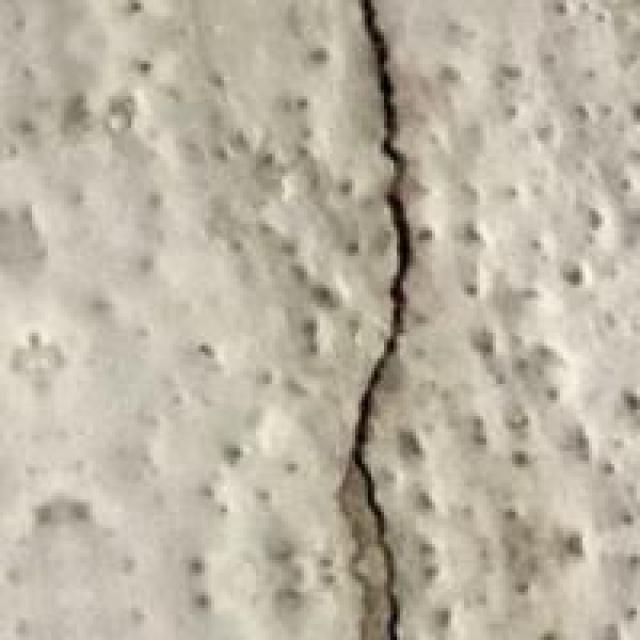crack: (298, 0, 477, 637)
